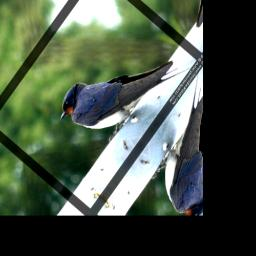Swallow: (52, 4, 199, 173)
